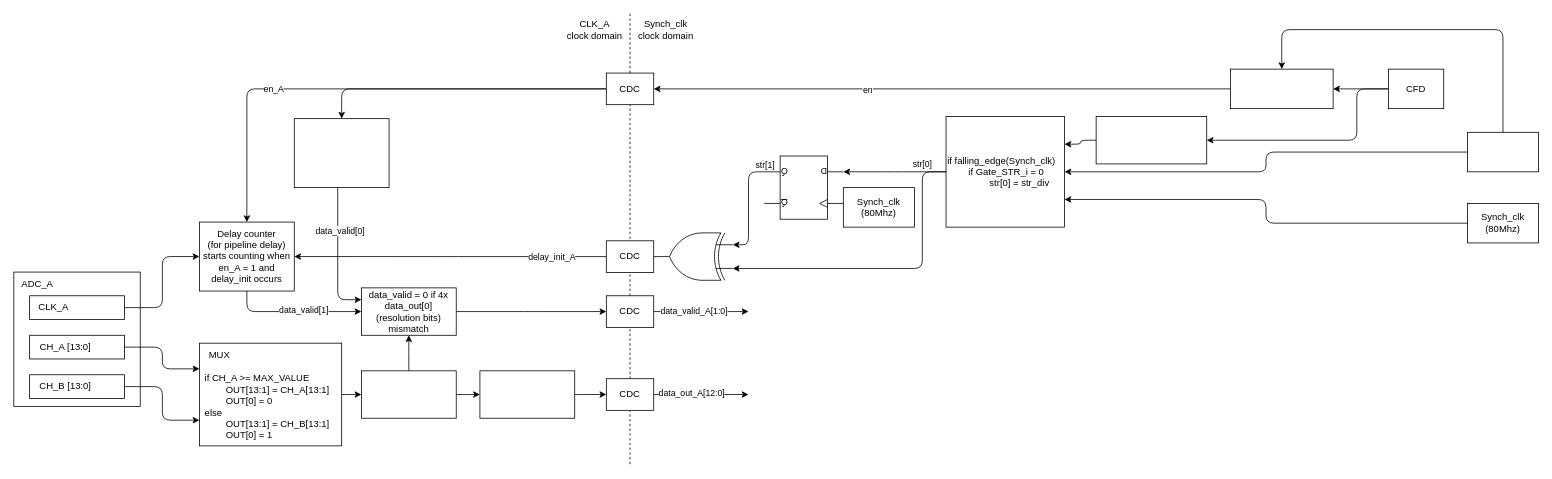
The diagram is 1552 pixels wide and 479 high, and some of its shapes have lost their labels. Here are the shapes that lost their labels. From the top down, the centre of each, then its label:
the point at 1281,88: Gate circuit
the point at 341,153: Delay counter (for pipeline delay) starts counting when en_A rising edge
the point at 1151,140: if falling_edge(STR) str_div = !str_div
the point at 1503,152: Gate_STR_i (40Mhz)
the point at 408,394: Shift register for 4x data_out[13:0]
the point at 527,394: Average value: Sum 4x data_out[13:1] and bit shift
